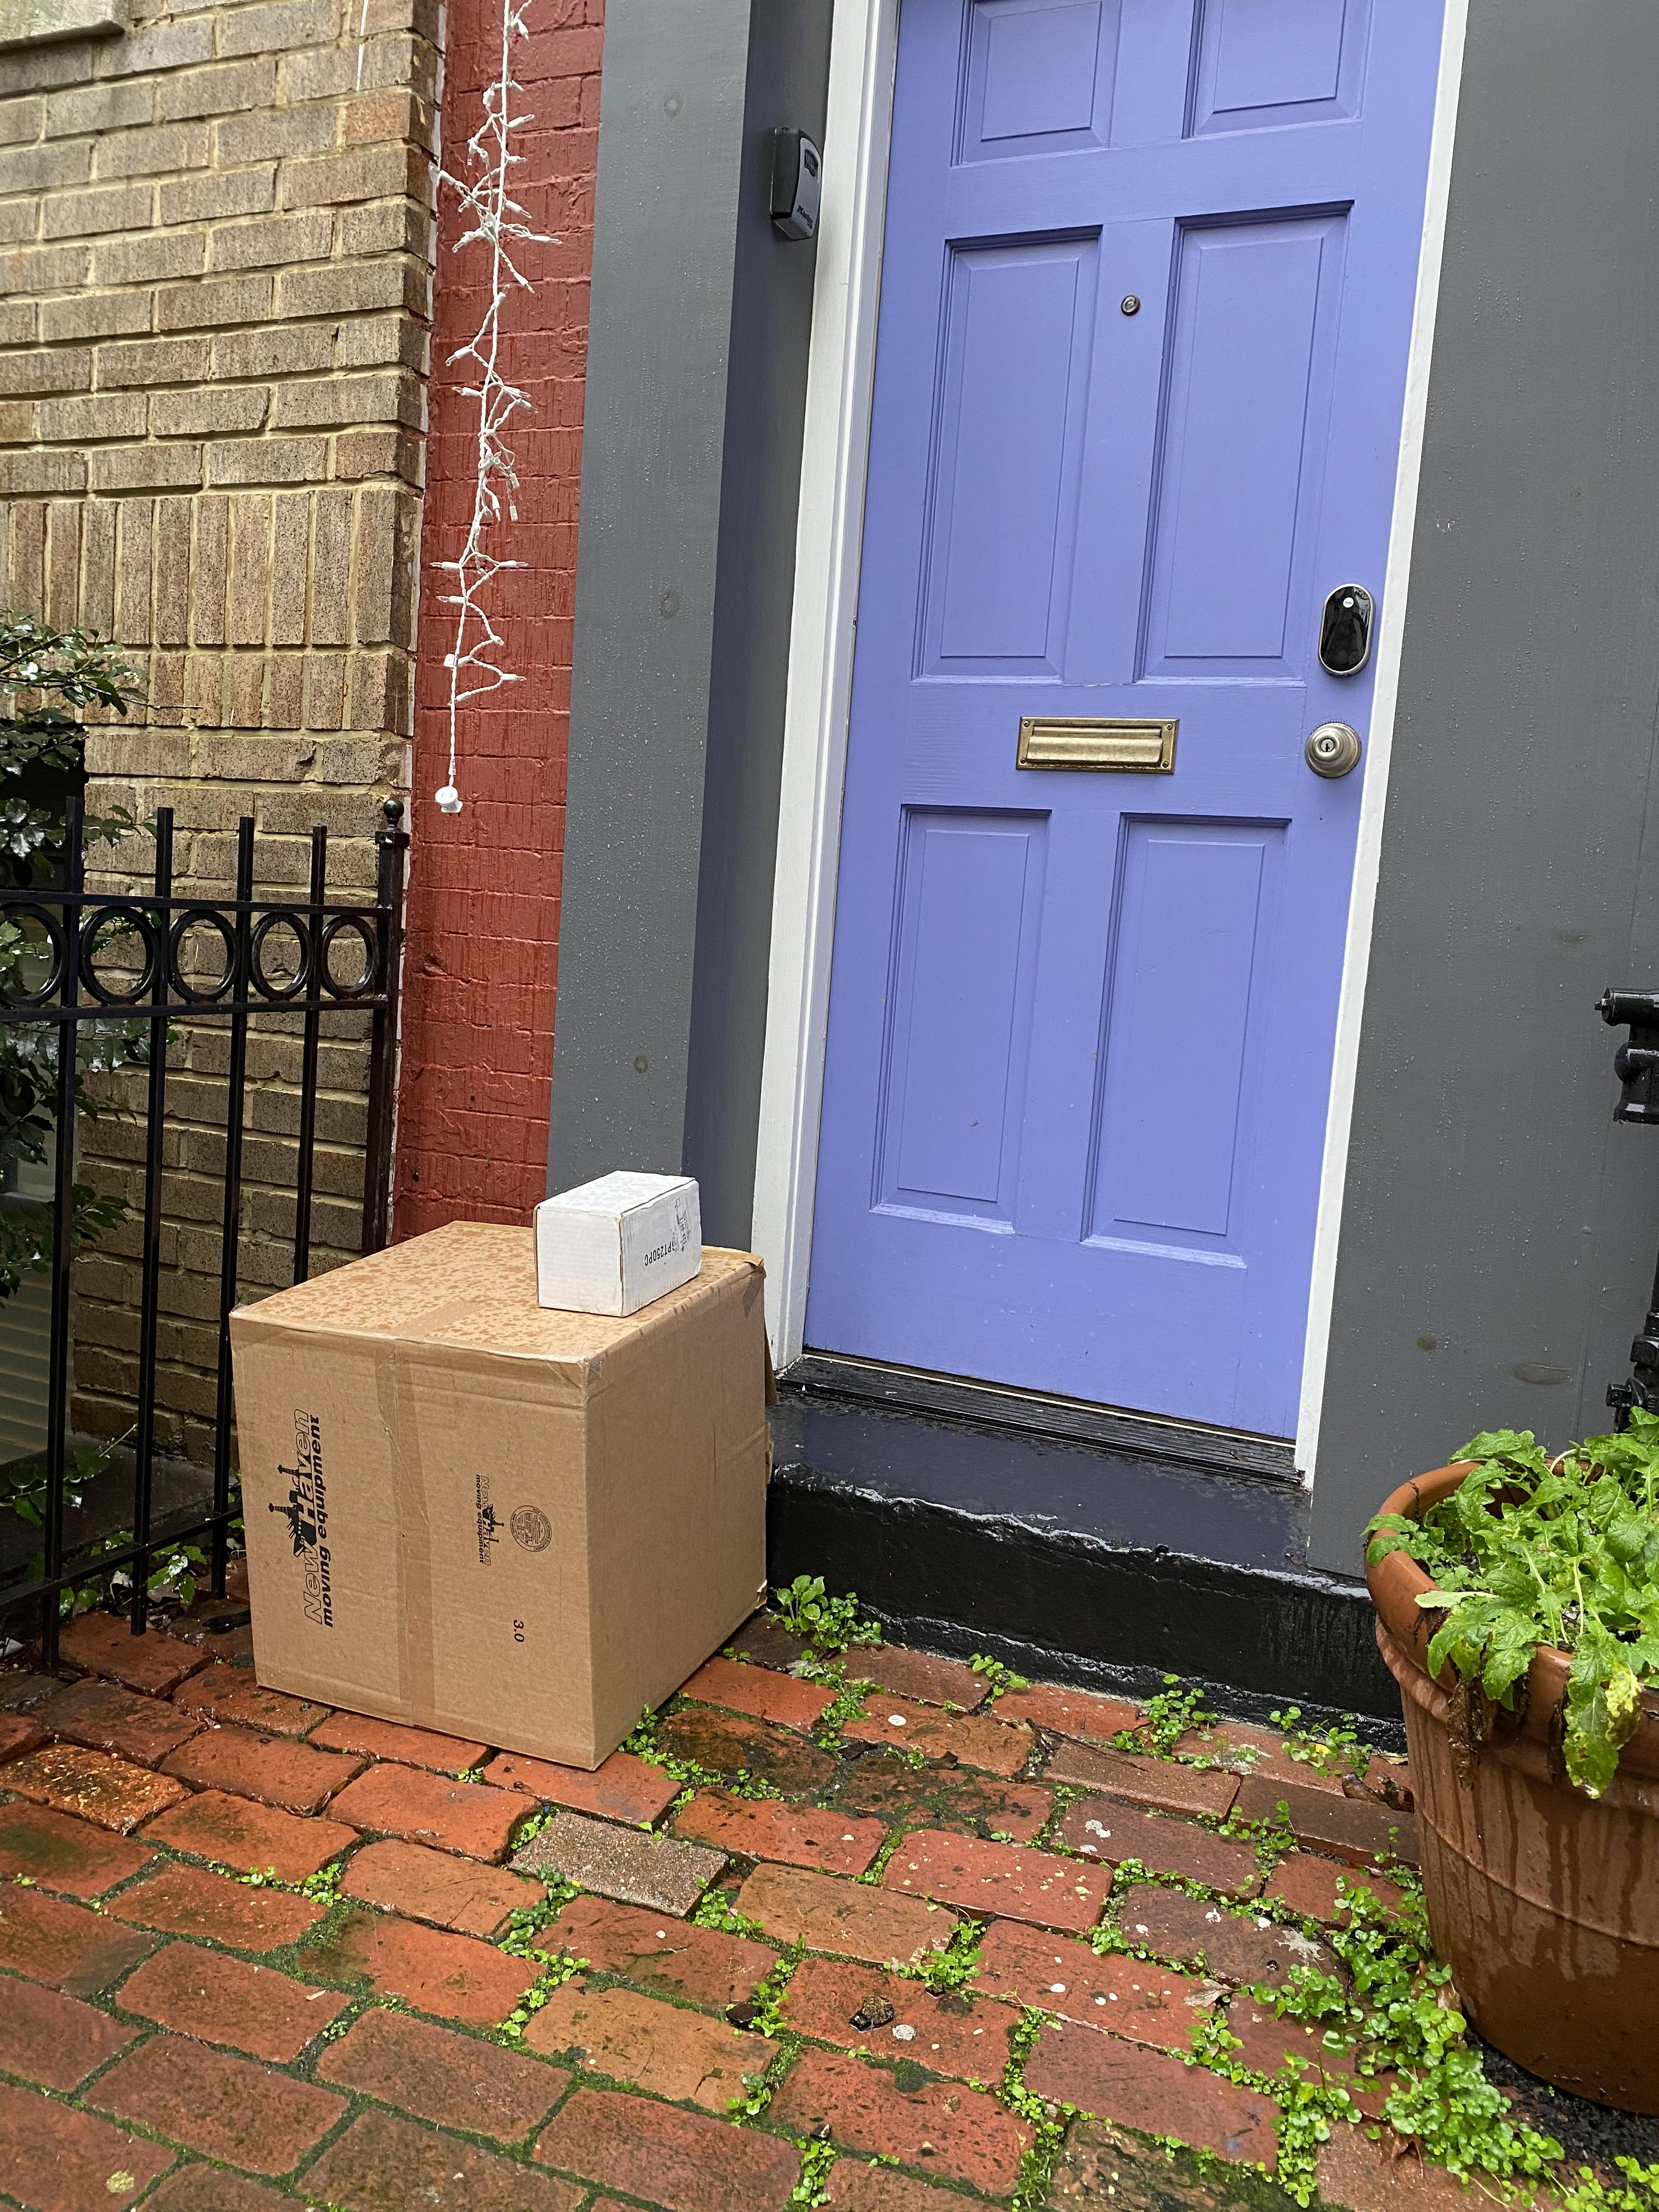package: (221, 1207, 784, 1782), (516, 1157, 711, 1325)
